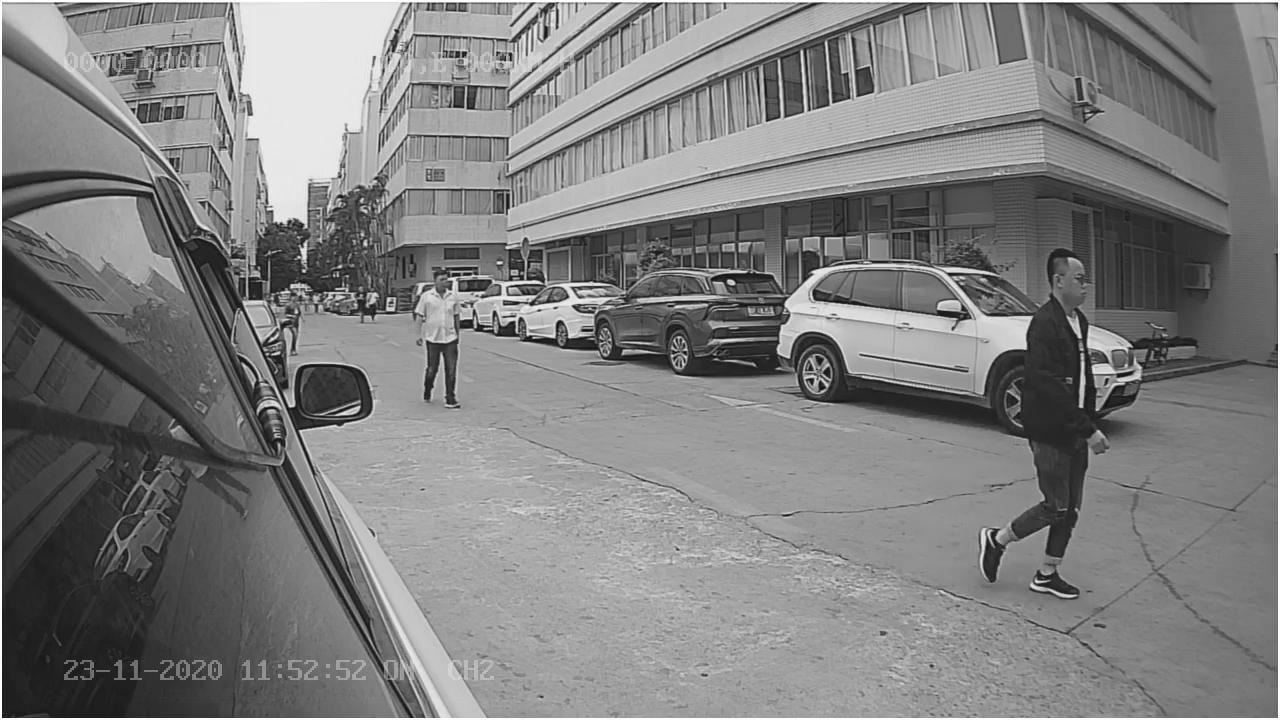person: (1009, 244, 1102, 605)
